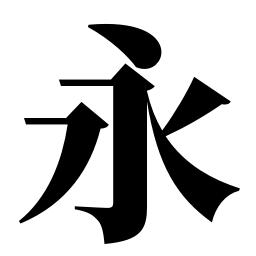D: (85, 19, 163, 58)
HSZ: (101, 70, 155, 109)
Hs: (53, 72, 93, 91)
Ne: (192, 172, 243, 226)
PNc: (151, 121, 176, 148)
PZe: (17, 194, 58, 225)
Ps: (180, 74, 231, 112)
SG: (72, 195, 153, 245)
Sm: (110, 158, 150, 186)
TPZ: (56, 100, 108, 149)
Ts: (20, 113, 44, 128)
